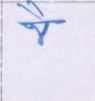au_matra: (30, 2, 50, 38)
